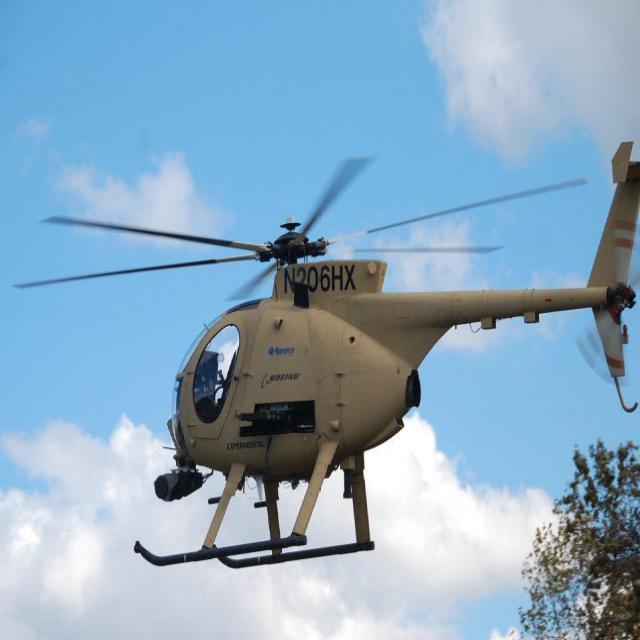helicopter: (20, 158, 640, 567)
